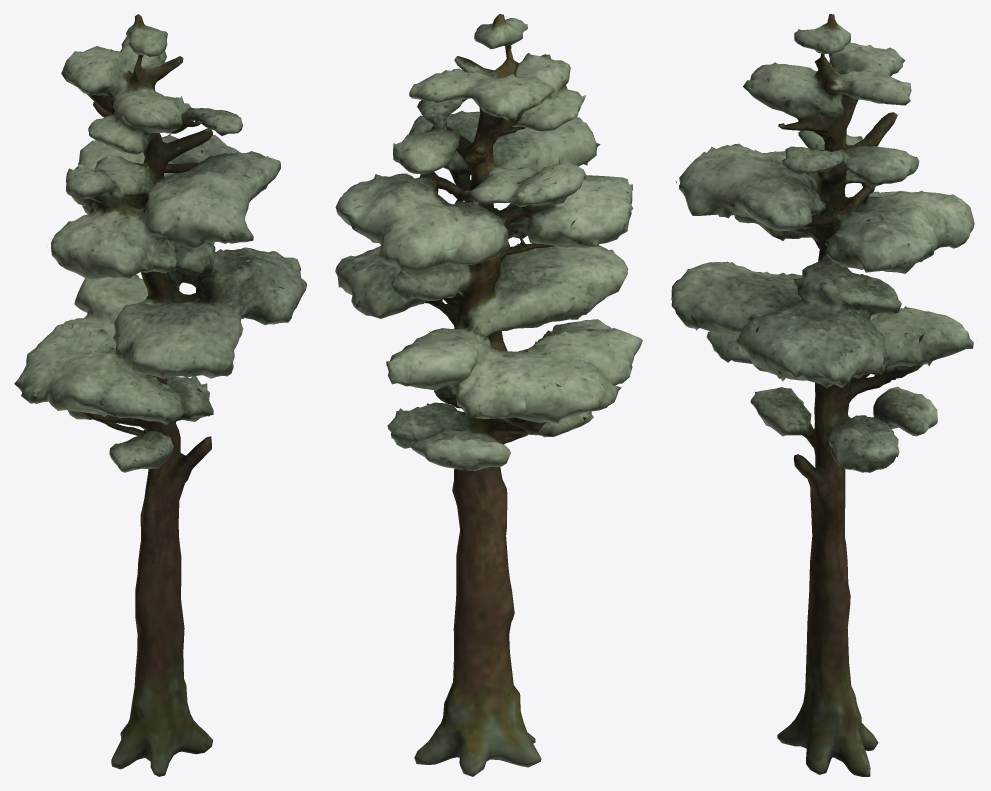
Rendered from tree_tall_a_meshy_high.glb.
3 renders of one model, left to right at view 1: azimuth 30°, elevation 25°; view 2: azimuth 150°, elevation 25°; view 3: azimuth 270°, elevation 25°, orthographic. The views are drawn at different scales.
Visible parts, largest first — view 1: tree_tall_a_meshy_hd; view 2: tree_tall_a_meshy_hd; view 3: tree_tall_a_meshy_hd.
Part boxes in pixels (x1,y1,x2,y2): tree_tall_a_meshy_hd: [14, 14, 306, 776]; tree_tall_a_meshy_hd: [335, 14, 642, 776]; tree_tall_a_meshy_hd: [671, 14, 974, 776].
Bounding box in the file's own units: 1.99 × 5.13 × 1.93.
Materials: 1 (1 with a texture image).
